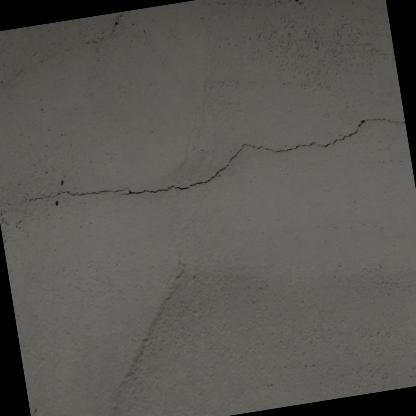crack: (21, 116, 405, 203)
